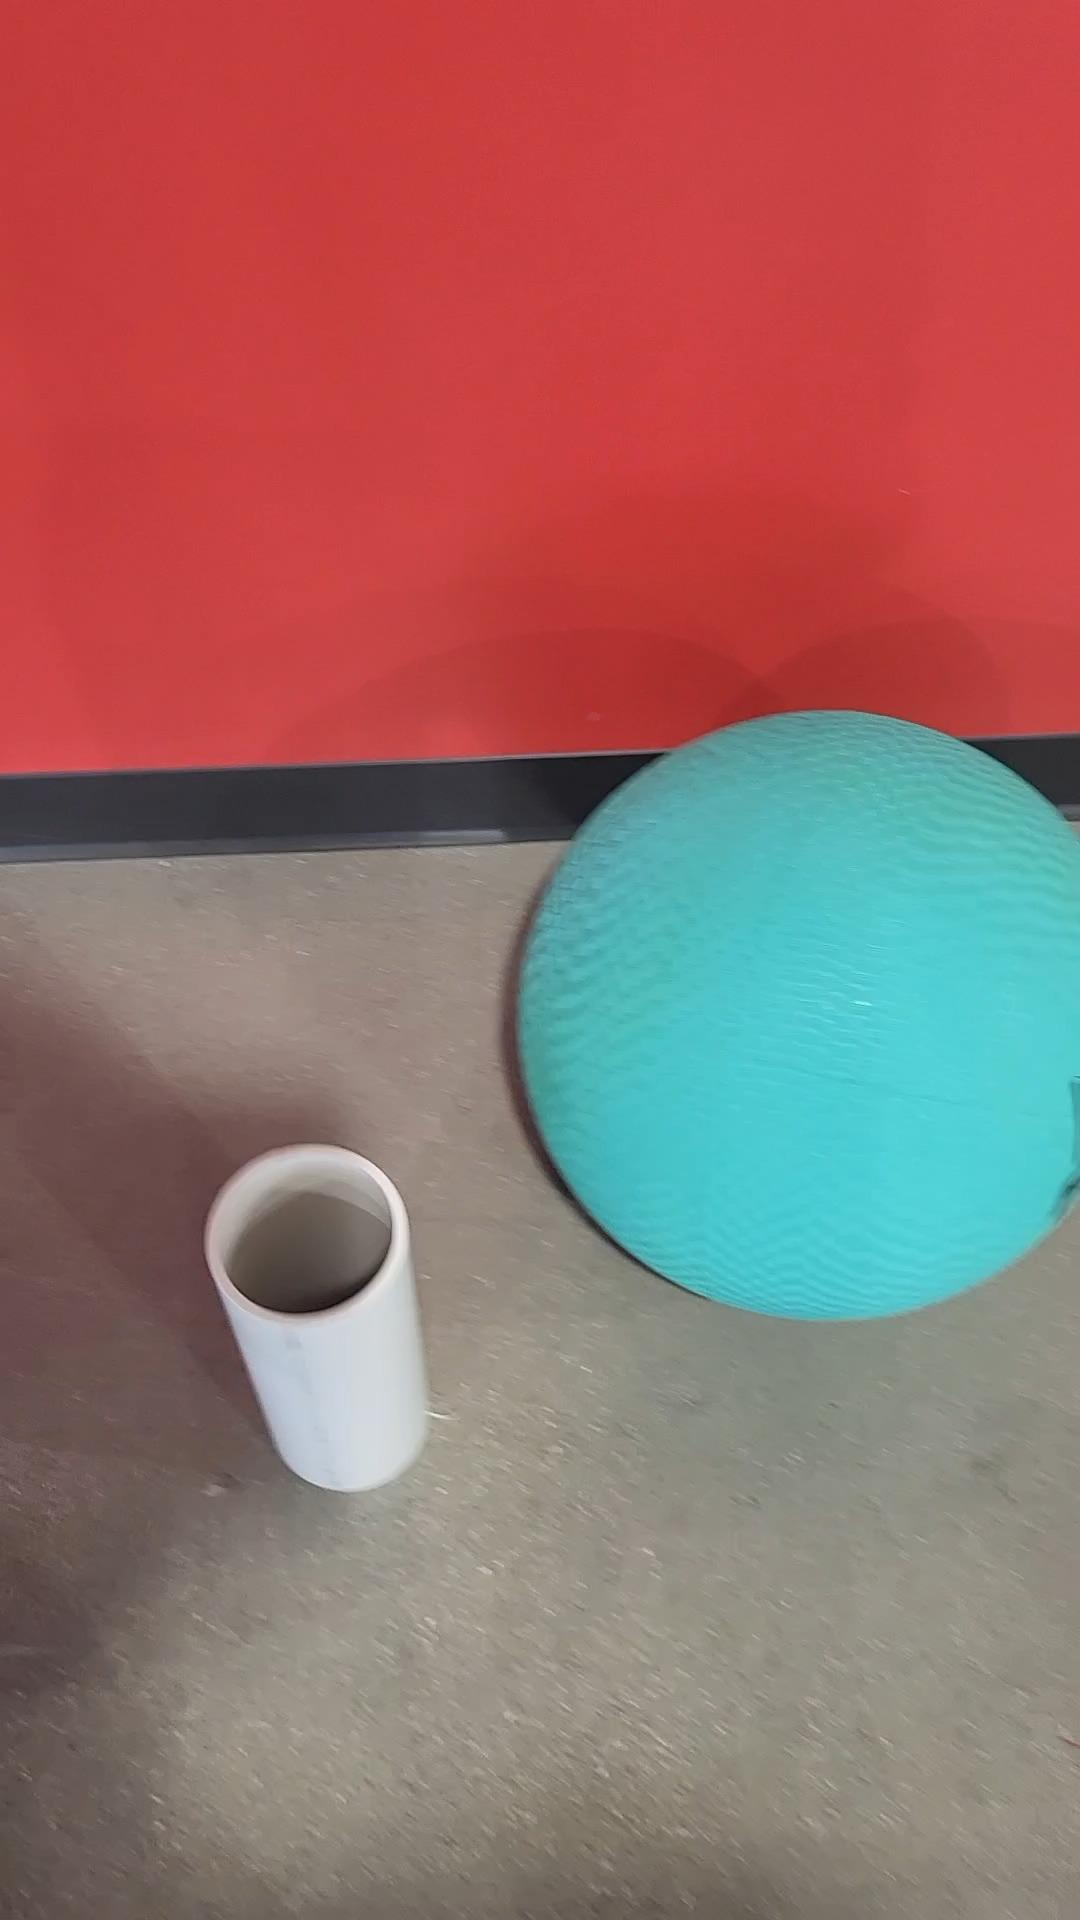algae: (518, 707, 1079, 1320)
coral: (204, 1145, 434, 1491)
